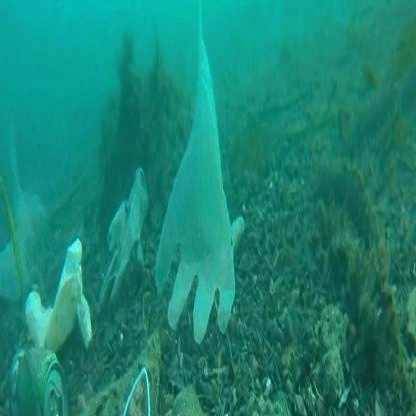glove: (160, 5, 244, 352), (98, 161, 152, 327)
